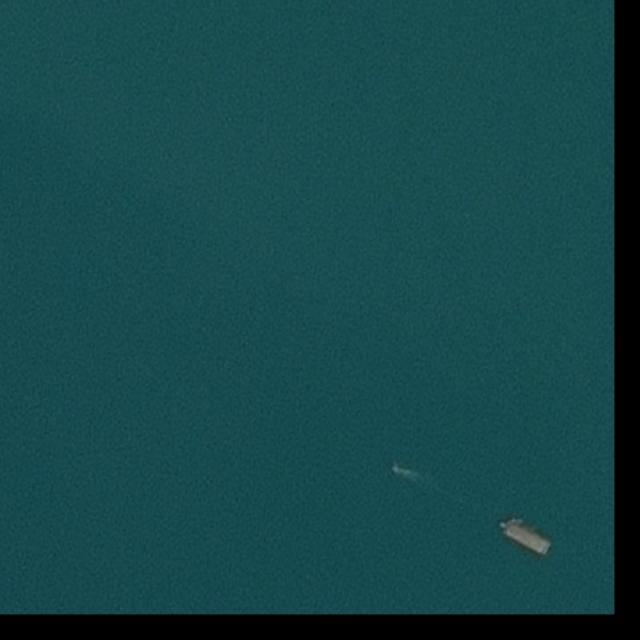ship: (502, 518, 554, 558), (390, 465, 405, 475)
